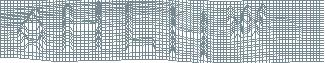6: (17, 6, 49, 55)
H: (165, 3, 208, 62), (61, 1, 104, 53)
L: (124, 2, 157, 55)
w: (224, 4, 267, 40)
